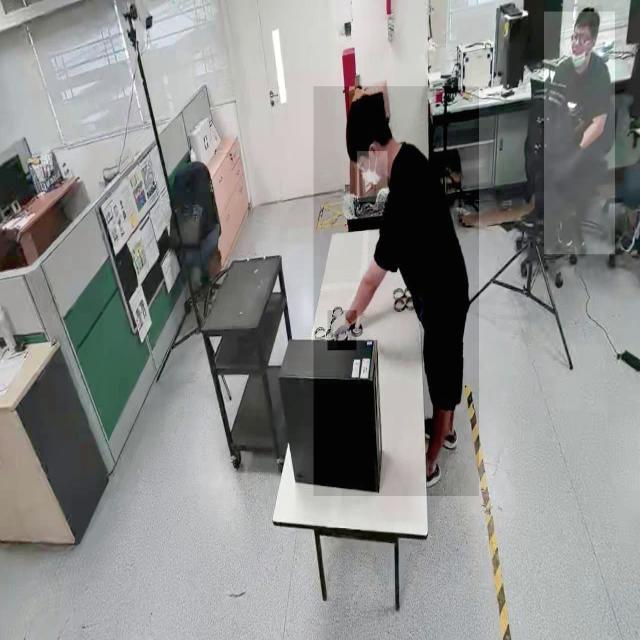face_mask: (357, 151, 387, 202)
face_nomask: (571, 32, 591, 64)
hand_glove: (327, 310, 357, 351)
head_nohelmet: (348, 94, 390, 132), (574, 5, 602, 28)
person: (313, 86, 479, 497), (543, 12, 615, 255)
